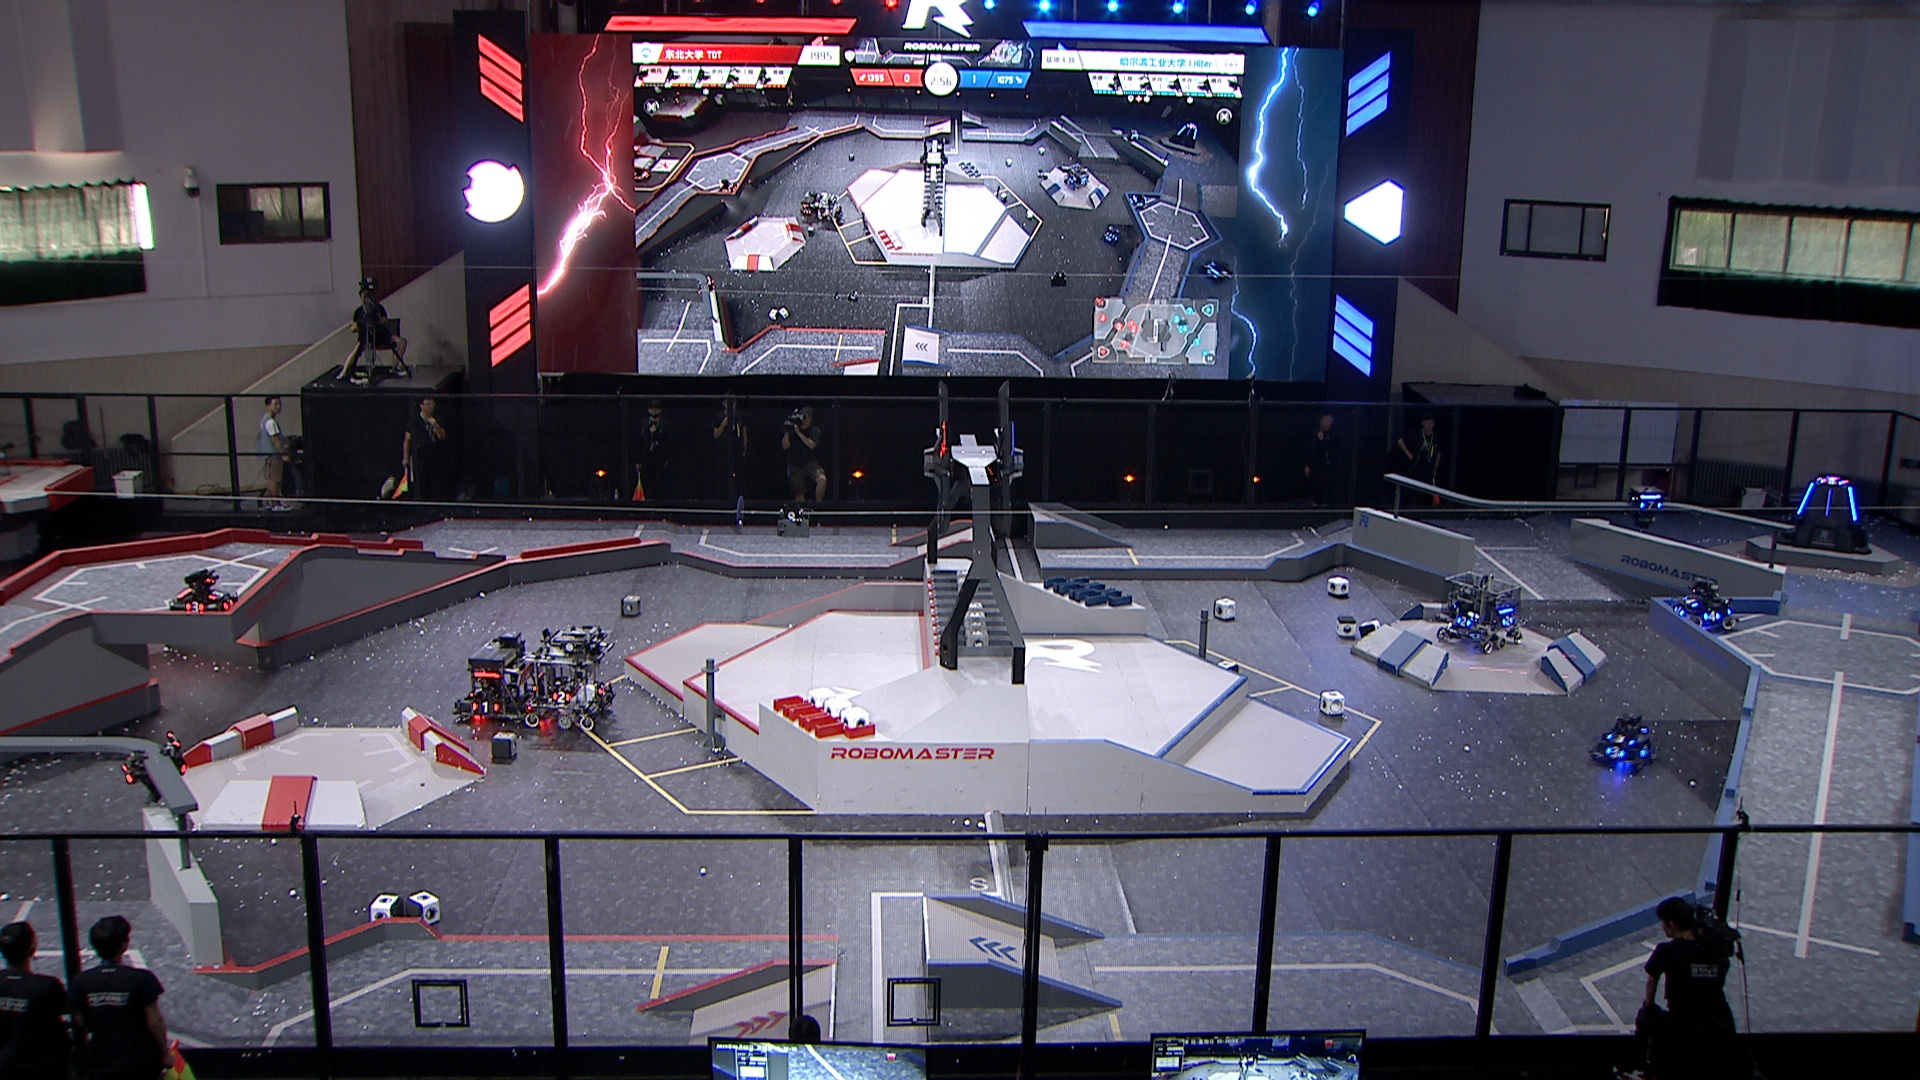armor: (1795, 479, 1813, 513), (119, 761, 140, 789), (469, 698, 498, 716), (1845, 485, 1859, 522), (1607, 731, 1636, 746), (550, 688, 574, 705), (1604, 744, 1627, 761), (1636, 498, 1664, 513), (182, 600, 206, 615), (1700, 608, 1724, 622), (1681, 591, 1700, 609), (1455, 612, 1474, 629), (207, 584, 224, 603), (223, 595, 239, 615), (1638, 741, 1654, 760), (593, 680, 609, 698), (1671, 603, 1688, 618), (1499, 613, 1515, 628), (1825, 488, 1833, 514)
base: (1770, 476, 1874, 556)
car: (524, 618, 615, 733), (454, 628, 542, 727), (1436, 568, 1523, 655), (1589, 707, 1665, 775), (164, 566, 244, 622), (1664, 580, 1743, 636)
ignore: (1168, 120, 1201, 154), (816, 191, 847, 225), (796, 187, 827, 219), (1203, 258, 1236, 287), (1062, 164, 1091, 191), (632, 167, 654, 183), (1820, 476, 1849, 488), (1102, 224, 1121, 243), (717, 177, 736, 195)
watcher: (119, 728, 190, 808), (1626, 483, 1669, 531)
